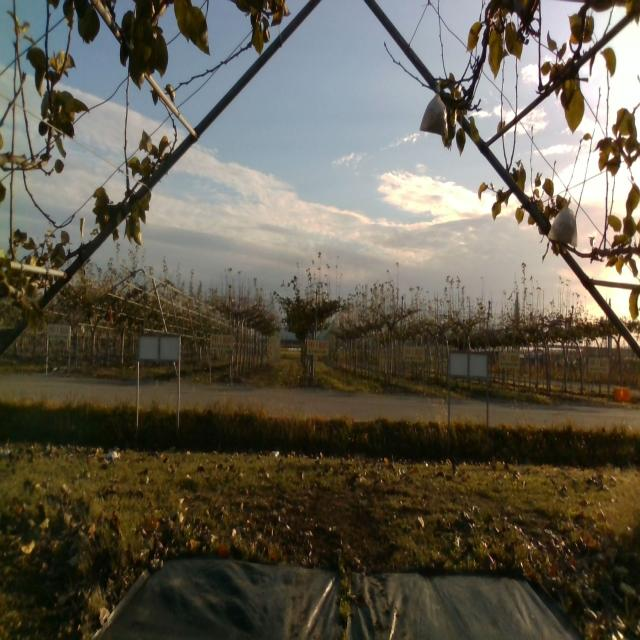pearbags: (545, 198, 578, 249), (419, 81, 448, 136)
